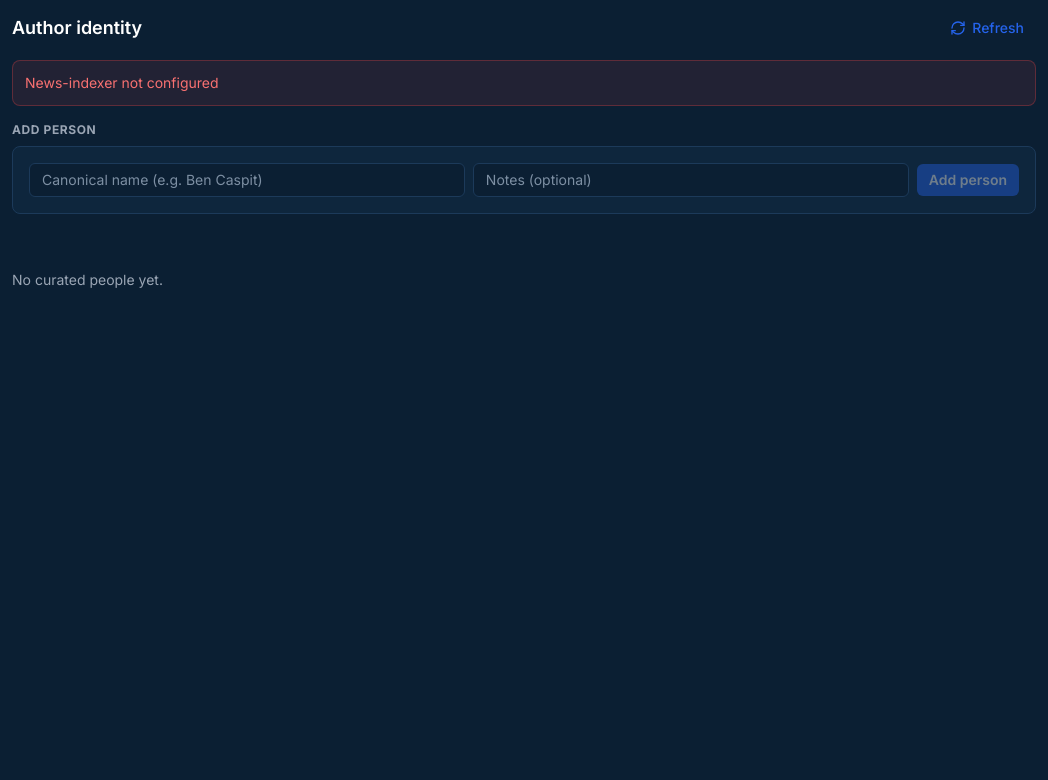
AuthorsTab › clears a stale error when the next request succeeds
Expected: the text "News-indexer not configured" is shown, top-left (12, 60), bottom-right (1036, 106)
Click the button "Refresh". click: click(987, 28)
box: top-left (938, 12), bottom-right (1036, 44)
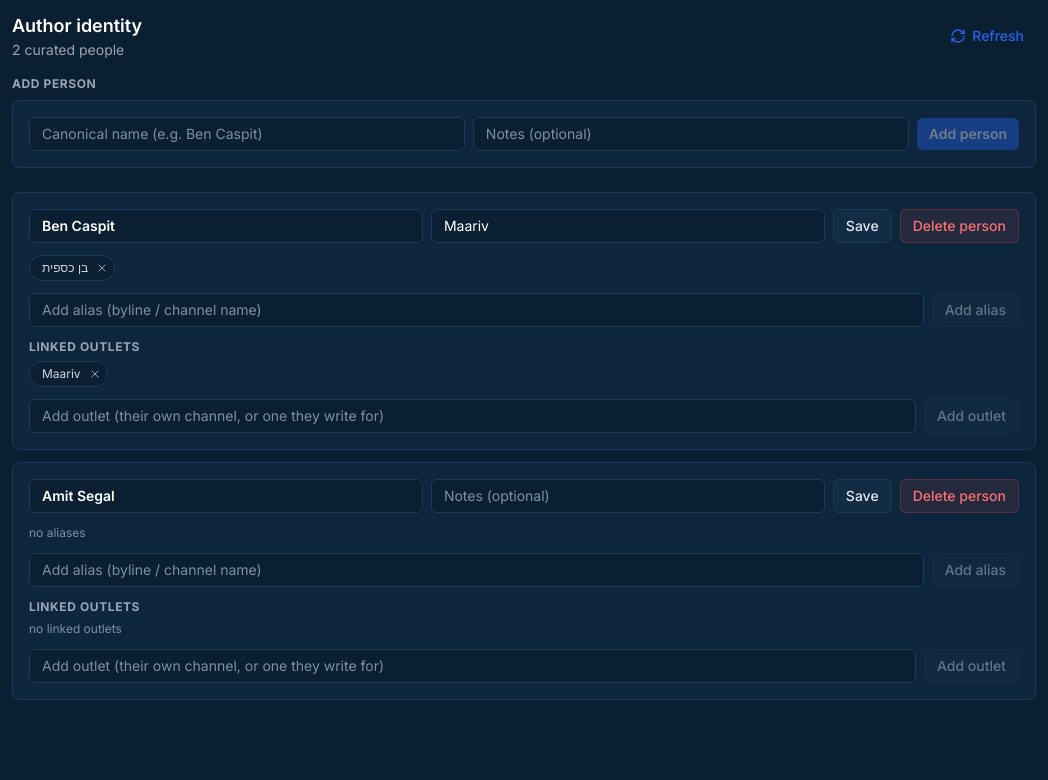
Expected: the 1st field showing "Ben Caspit" is shown, top-left (29, 209), bottom-right (423, 243)
Expected: the text "News-indexer not configured" is gone
